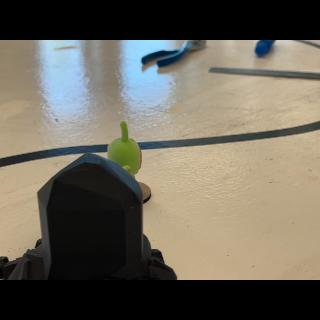teletubby: (108, 122, 142, 179)
